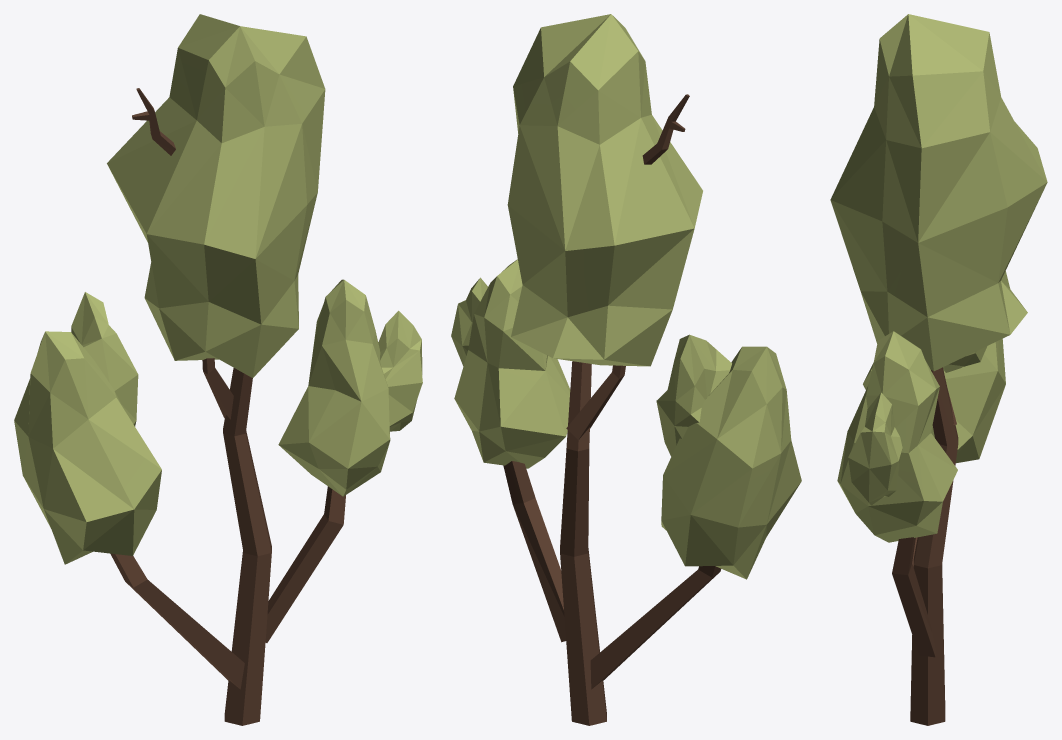
The model's file is tree6.glb.
The picture shows the model from 3 angles, left to right: view 1: azimuth 30°, elevation 25°; view 2: azimuth 150°, elevation 25°; view 3: azimuth 270°, elevation 25°; orthographic projection.
Parts seen in each view (by area): view 1: tree16; view 2: tree16; view 3: tree16.
Part boxes in pixels (<box>): tree16: <box>14,14,422,725</box>; tree16: <box>451,14,801,725</box>; tree16: <box>830,14,1047,725</box>.
Size of the model in its own units: 3.07 by 5.7 by 1.61.
1 material, 1 textured.
